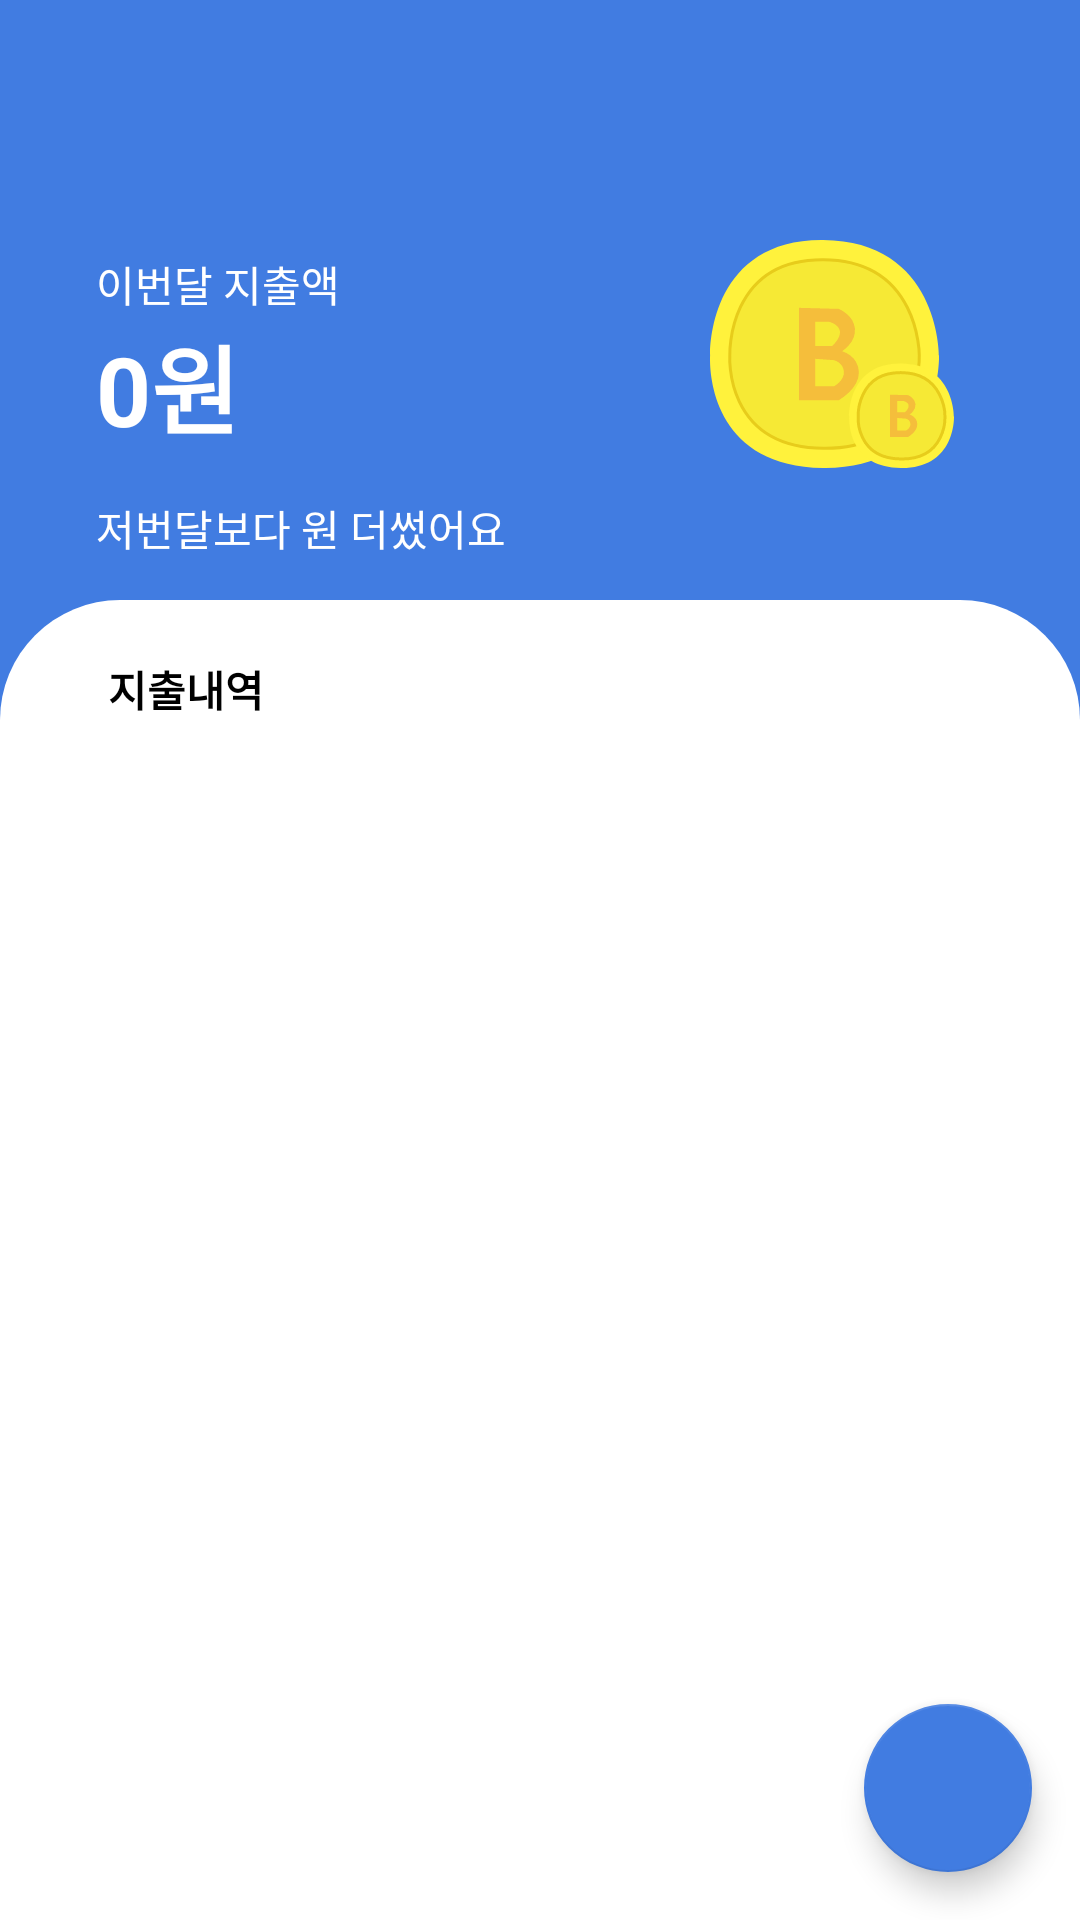

Named icons in this screenshot (1080px x 1920px) and their bounding boxes, (x1, y1, x2, y2):
money: (710, 240, 954, 468)
